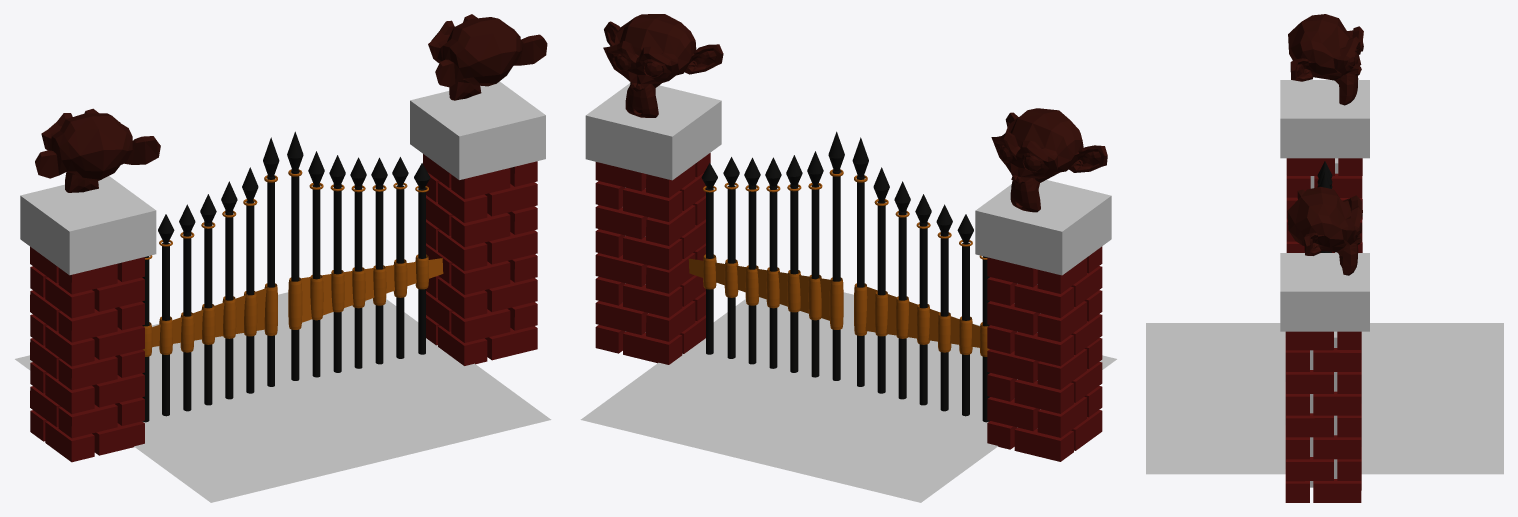
File: gate.obj
3 views of the same model, side by side, from view 1: azimuth 30°, elevation 25°; view 2: azimuth 150°, elevation 25°; view 3: azimuth 270°, elevation 25° (orthographic). The views are drawn at different scales.
Parts seen in each view (by area): view 1: Plane, Cube.067_Cube.094, Cube.066_Cube.093, Suzanne.001, Suzanne, Plane.001, Plane.002, Cube.041, Cube.007_Cube.041, Cube.024_Cube.041, Cube.058_Cube.041, Cube.057_Cube.041 (+46 smaller); view 2: Plane, Cube.067_Cube.094, Cube.066_Cube.093, Suzanne, Suzanne.001, Plane.001, Plane.002, Cube.065_Cube.041, Cube.015_Cube.041, Cube.050_Cube.041, Cube.034_Cube.041, Cube.049_Cube.041 (+48 smaller); view 3: Plane, Cube.066_Cube.093, Cube.067_Cube.094, Suzanne.001, Suzanne, Cube.014_Cube.041, Cube.009_Cube.041, Cube.030_Cube.041, Cube.006_Cube.041, Cube.017_Cube.041, Cube.001_Cube.041, Cube.025_Cube.041 (+14 smaller).
Boxes of the visible parts, x1,y1,x2,y2 form: Plane: (15, 292, 551, 502); Cube.067_Cube.094: (20, 176, 156, 275); Cube.066_Cube.093: (410, 81, 545, 179); Suzanne.001: (35, 108, 160, 192); Suzanne: (428, 14, 547, 100); Plane.001: (301, 258, 443, 322); Plane.002: (152, 288, 266, 346); Cube.041: (58, 308, 117, 342); Cube.007_Cube.041: (451, 308, 510, 342); Cube.024_Cube.041: (451, 213, 510, 247); Cube.058_Cube.041: (58, 404, 117, 438); Cube.057_Cube.041: (58, 356, 117, 390); Plane: (580, 292, 1116, 502); Cube.067_Cube.094: (975, 180, 1111, 275); Cube.066_Cube.093: (585, 83, 721, 180); Suzanne: (603, 14, 723, 117); Suzanne.001: (991, 108, 1107, 212); Plane.001: (688, 258, 832, 320); Plane.002: (864, 286, 979, 347); Cube.065_Cube.041: (1014, 427, 1073, 461); Cube.015_Cube.041: (623, 283, 682, 317); Cube.050_Cube.041: (1014, 379, 1073, 413); Cube.034_Cube.041: (1014, 332, 1073, 366); Cube.049_Cube.041: (1014, 284, 1073, 317); Plane: (1146, 323, 1503, 474); Cube.066_Cube.093: (1280, 253, 1369, 331); Cube.067_Cube.094: (1280, 80, 1369, 158); Suzanne.001: (1288, 14, 1363, 105); Suzanne: (1287, 186, 1362, 275); Cube.014_Cube.041: (1313, 435, 1361, 459); Cube.009_Cube.041: (1285, 413, 1333, 437); Cube.030_Cube.041: (1313, 391, 1361, 415); Cube.006_Cube.041: (1285, 457, 1333, 481); Cube.017_Cube.041: (1313, 348, 1361, 371); Cube.001_Cube.041: (1313, 479, 1361, 502); Cube.025_Cube.041: (1285, 370, 1333, 393).
Bounding box in the file's own units: 24.27 × 14.73 × 16.29.
